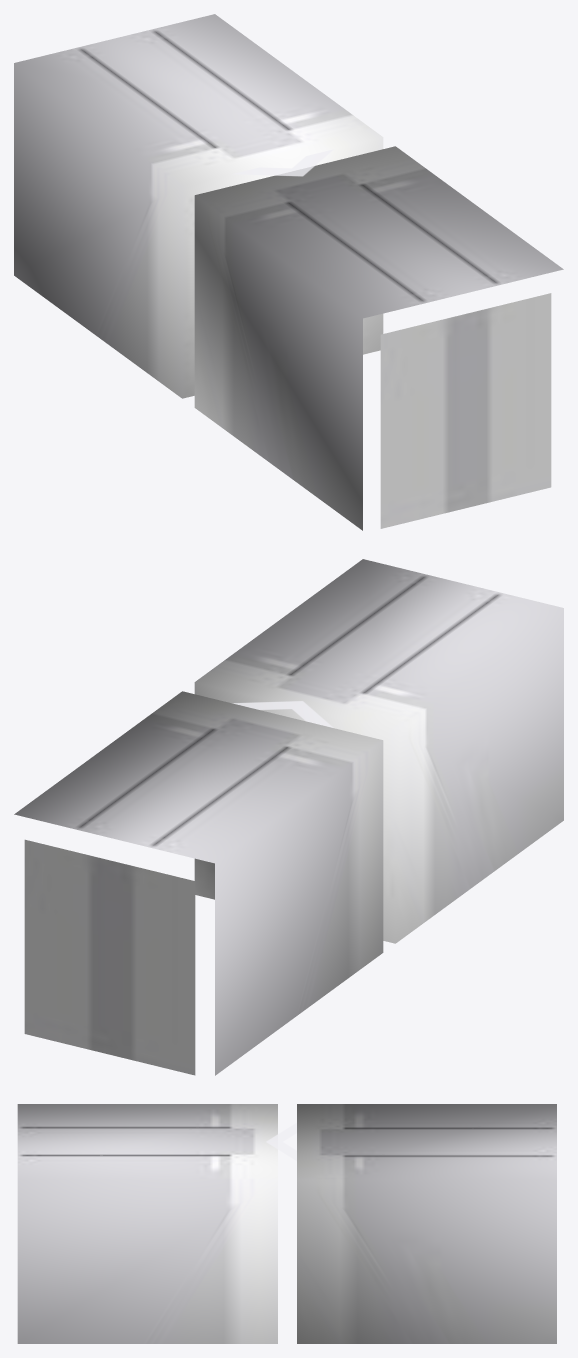
Rendered from sorter-mk4-lod2.glb.
3 renders of one model, top to bottom at view 1: azimuth 30°, elevation 25°; view 2: azimuth 150°, elevation 25°; view 3: azimuth 270°, elevation 25°, orthographic. The views are drawn at different scales.
Visible parts, largest first — view 1: ARail, BRail, BCap, arrow; view 2: BRail, ARail, ACap, arrow; view 3: BRail, ARail, arrow.
Part boxes in pixels (<box>): ARail: <box>14,14,383,398</box>; BRail: <box>194,146,563,530</box>; BCap: <box>380,293,551,528</box>; arrow: <box>232,149,333,176</box>; BRail: <box>194,559,563,943</box>; ARail: <box>14,691,383,1075</box>; ACap: <box>24,839,195,1075</box>; arrow: <box>232,701,333,727</box>; BRail: <box>17,1104,277,1343</box>; ARail: <box>297,1104,556,1343</box>; arrow: <box>266,1122,296,1160</box>.
Size of the model in its own units: 0.99 by 1 by 3.04.
Materials: 2 (2 with a texture image).
